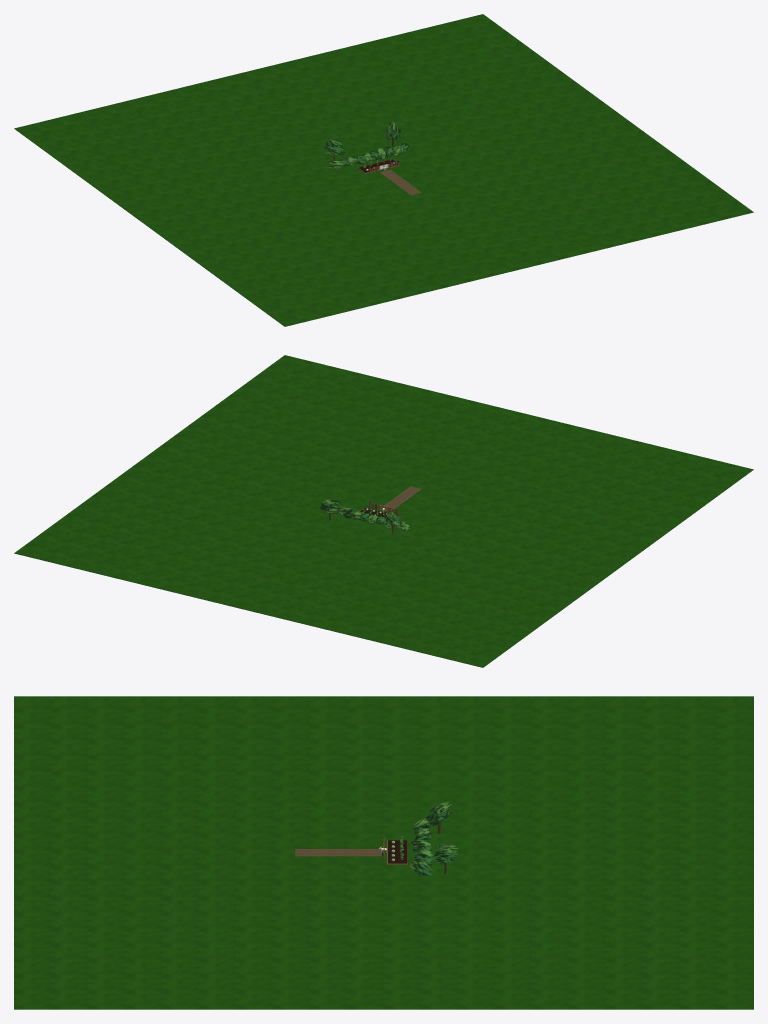
The model's file is goat-garden.glb.
The picture shows the model from 3 angles, top to bottom: view 1: azimuth 30°, elevation 25°; view 2: azimuth 150°, elevation 25°; view 3: azimuth 270°, elevation 25°; orthographic projection. The views are drawn at different scales.
Visible parts, largest first — view 1: Yard; view 2: Yard; view 3: Yard.
Boxes of the visible parts, box(x1,y1,x2,y2) form: Yard: box(14, 14, 753, 326); Yard: box(14, 355, 753, 667); Yard: box(14, 696, 753, 1009).
Size of the model in its own units: 120 by 5.63 by 120.
28 materials, 3 textured.
